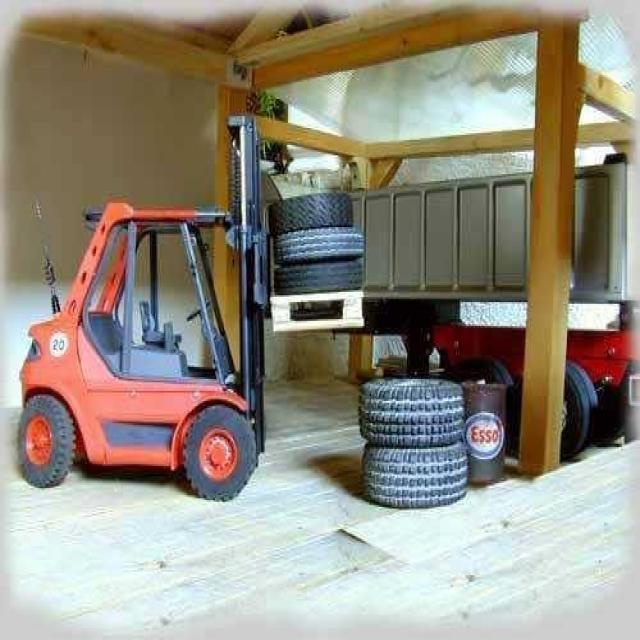forklift: (19, 116, 268, 505)
